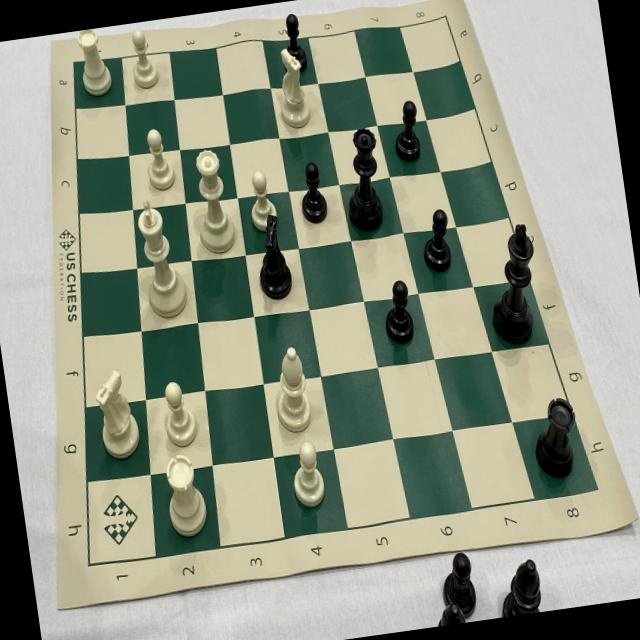black-king: (472, 214, 548, 352)
black-knight: (247, 212, 298, 304)
black-pawn: (412, 203, 457, 281), (377, 272, 422, 349), (383, 96, 428, 166), (292, 158, 332, 230), (274, 8, 314, 76)
black-queen: (336, 120, 392, 238)
black-rook: (524, 390, 584, 483)
white-bishop: (261, 338, 317, 438)
white-king: (128, 190, 195, 322)
white-knight: (83, 363, 144, 463), (264, 44, 317, 132)
white-pawn: (283, 434, 331, 515), (156, 376, 203, 454), (239, 165, 285, 238), (120, 20, 163, 96), (140, 123, 180, 200)
white-queen: (184, 143, 242, 256)
white-rook: (158, 449, 214, 544), (69, 26, 117, 100)
